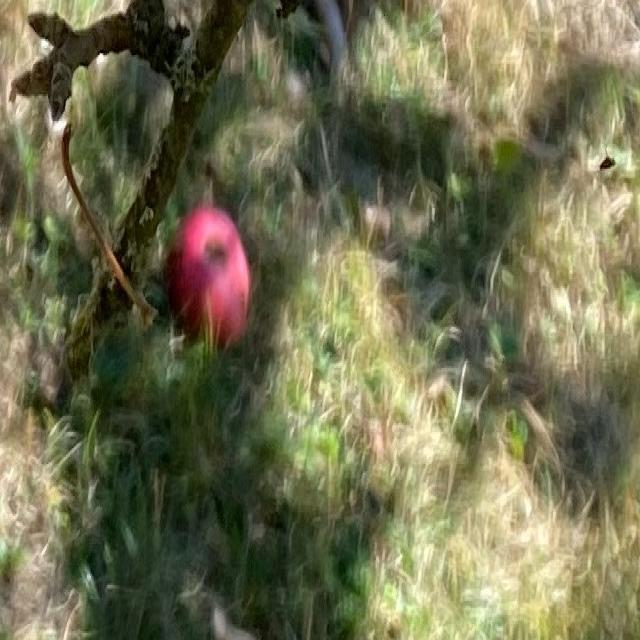Apples: (166, 211, 249, 345)
